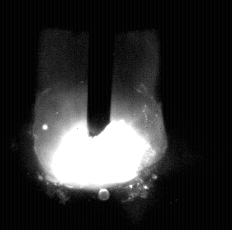arame: (88, 0, 112, 137)
poca: (34, 0, 168, 230)
